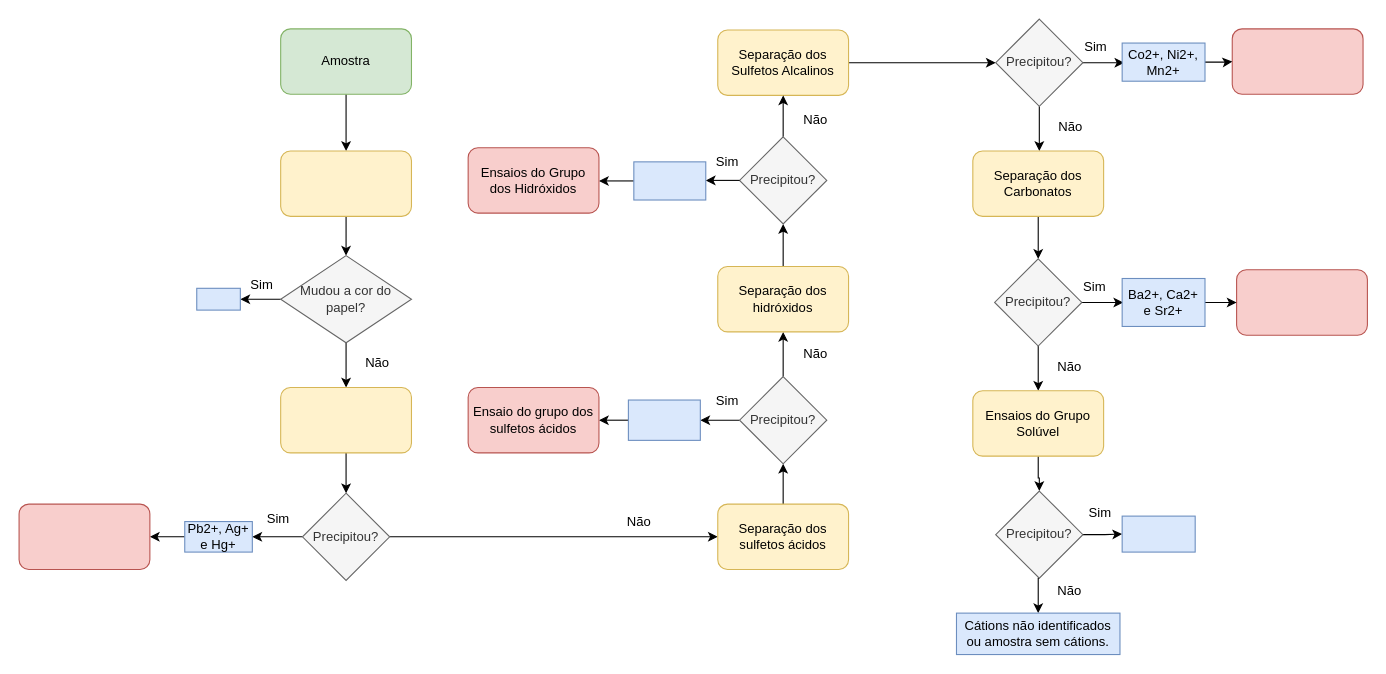
Some shapes in this 1386 by 674 pixel diagram are drawn without their labels. The box of each missing label's shape, as (x1, y1, x2, y2) in pixels:
Al3+, Fe3+ e Cr3+: (633, 161, 706, 200)
Cu2+, As3+ e Sn2+: (627, 399, 700, 440)
Ensaio do grupo dos cloretos.: (18, 503, 150, 570)
Ensaios do grupo dos carbonatos: (1236, 269, 1367, 335)
Ensaios do Grupo dos Sulfetos Alcalinos: (1231, 28, 1363, 94)
K+, Na+ e Mg2+: (1121, 515, 1195, 552)
NH4+: (196, 287, 240, 310)
Separação do grupo dos cloretos: (280, 386, 411, 453)
Δ + Papel de Tornassol: (280, 150, 411, 216)
